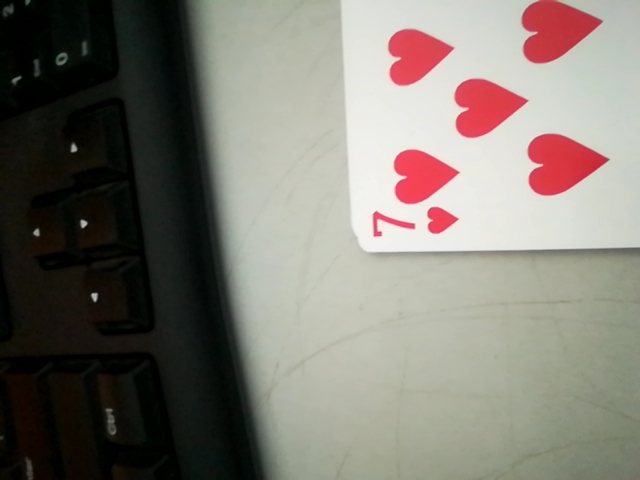hx 7: (364, 204, 464, 256)
